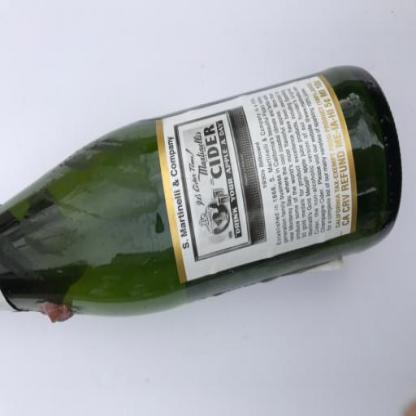trash: (0, 62, 404, 320)
